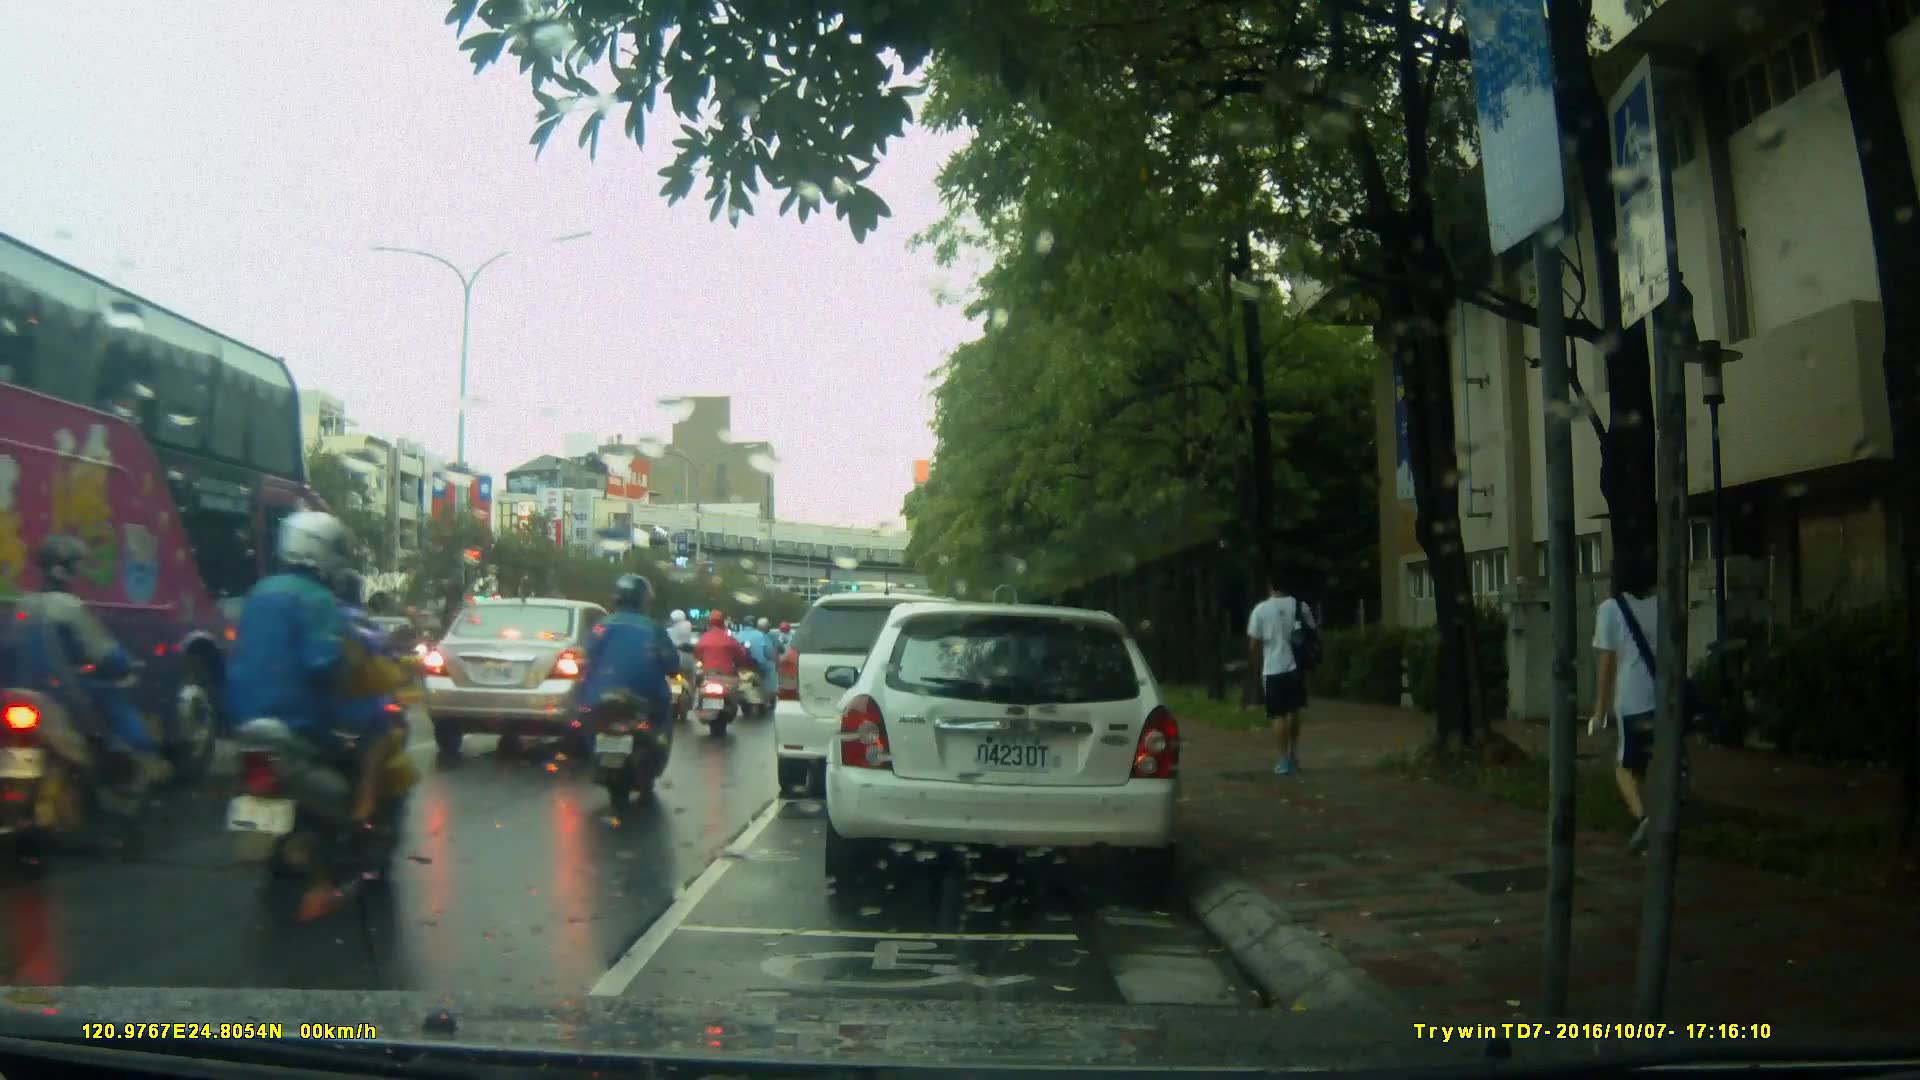pedestrian: (1569, 539, 1688, 870), (268, 554, 409, 788), (1242, 563, 1335, 793)
rider: (231, 512, 412, 924), (1, 535, 171, 875), (570, 571, 684, 803), (691, 605, 750, 738), (649, 604, 702, 722), (732, 612, 776, 712), (766, 619, 802, 709)
vehicle: (10, 226, 339, 888), (812, 604, 1188, 882), (774, 595, 995, 802), (423, 595, 663, 758)
